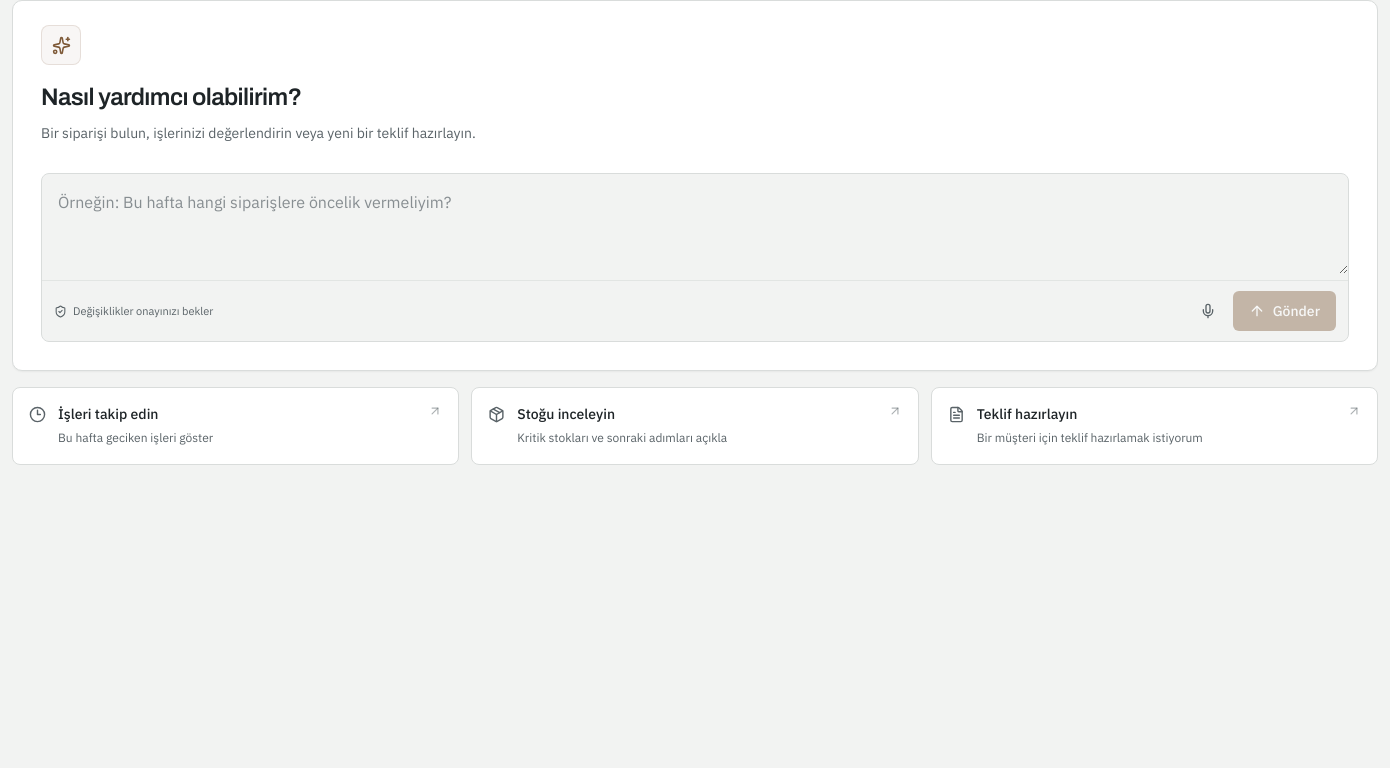
Test: uses a full model-compatible timeout and shows the response source returned by the API
The width and height of the screenshot is (1390, 768).
Type "İşleri nasıl iyileştirebilirim?" into the text box named "Komut" at (695, 224), box 42,174 -> 1348,274
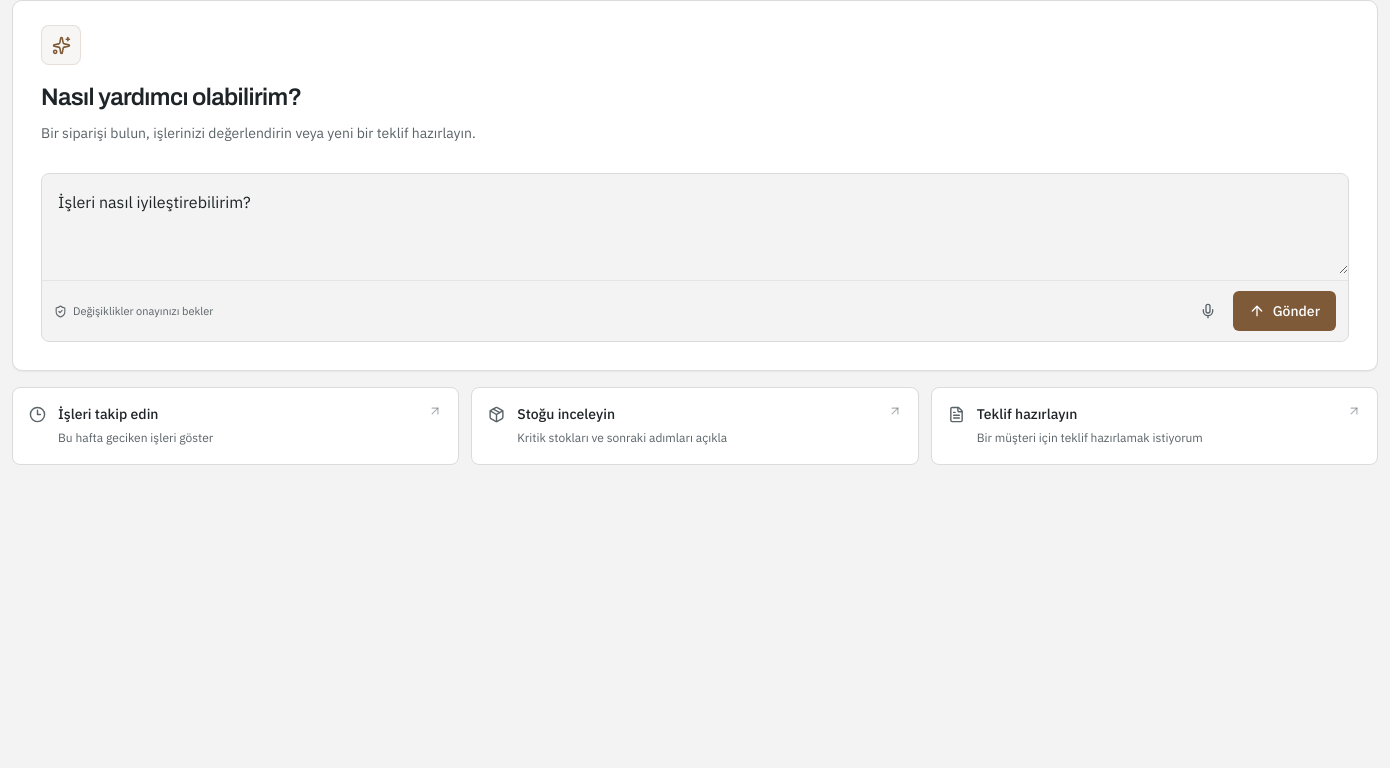
Click the button "Gönder" at (1284, 311), box 1233,291 -> 1336,331
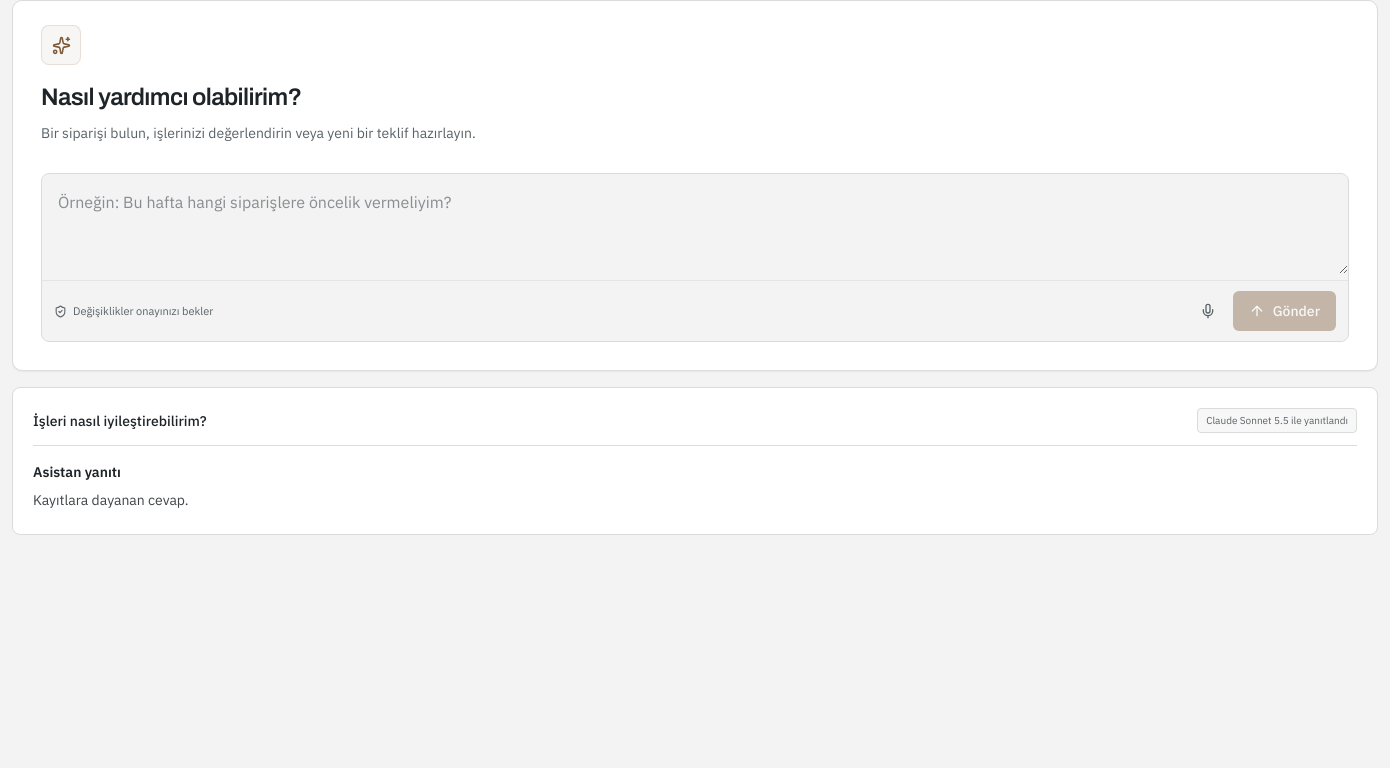
Expected: the text "Kayıtlara dayanan cevap." is shown, 33,491 -> 188,509
Expected: the text "Claude Sonnet 5.5 ile yanıtlandı" is shown, 1197,408 -> 1357,433
